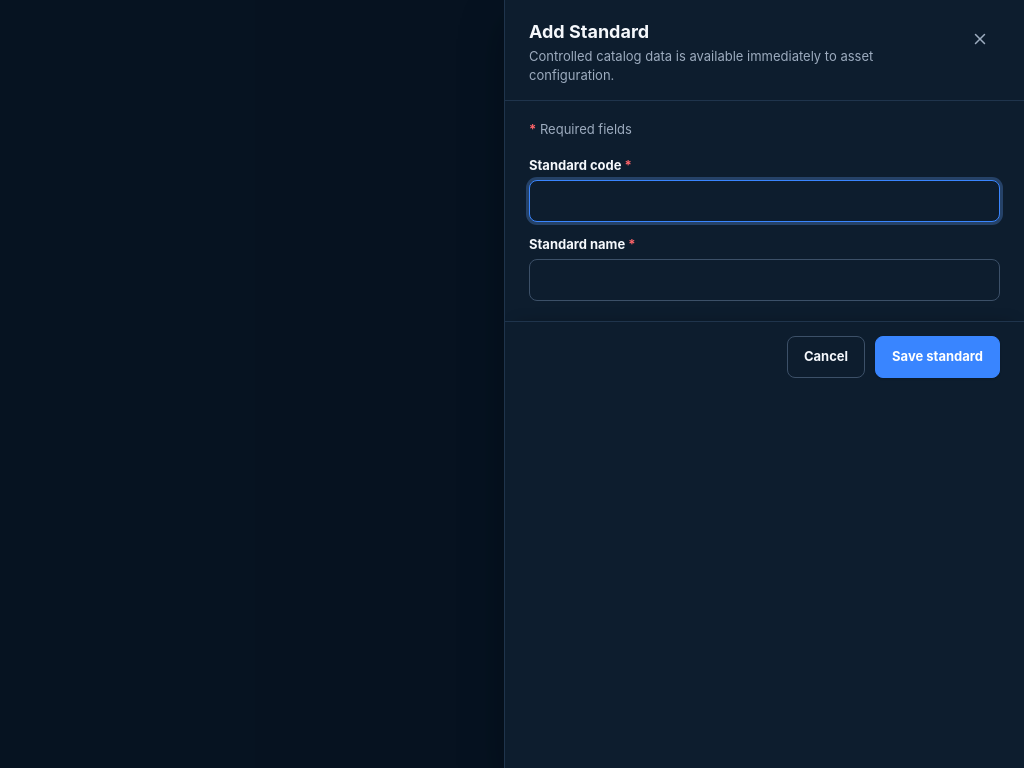
it: Reference catalogue form on the shared form system › refuses an empty save with the error on its field, the first gap focused and a summary link
The width and height of the screenshot is (1024, 768).
What coordinates should you click on to do the following:
click the button "Save standard"
I would click on:
 (938, 357)
Its box is [875,336,1000,378].
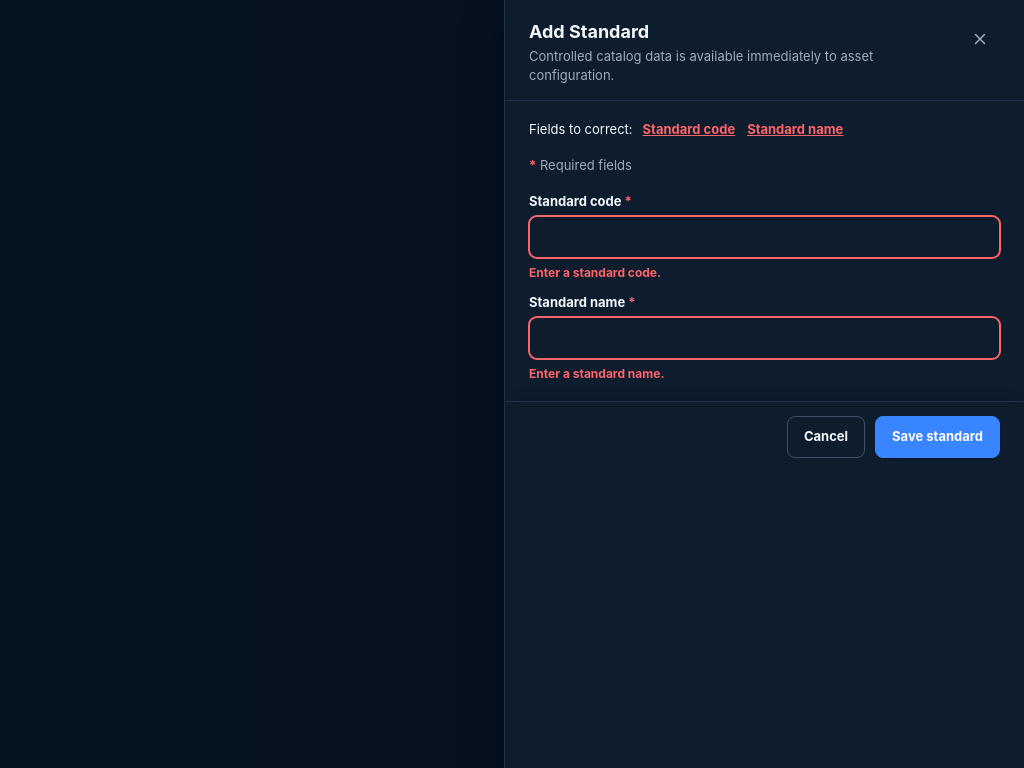
Expected: the button "Standard code" is shown, [643,121,735,137]
